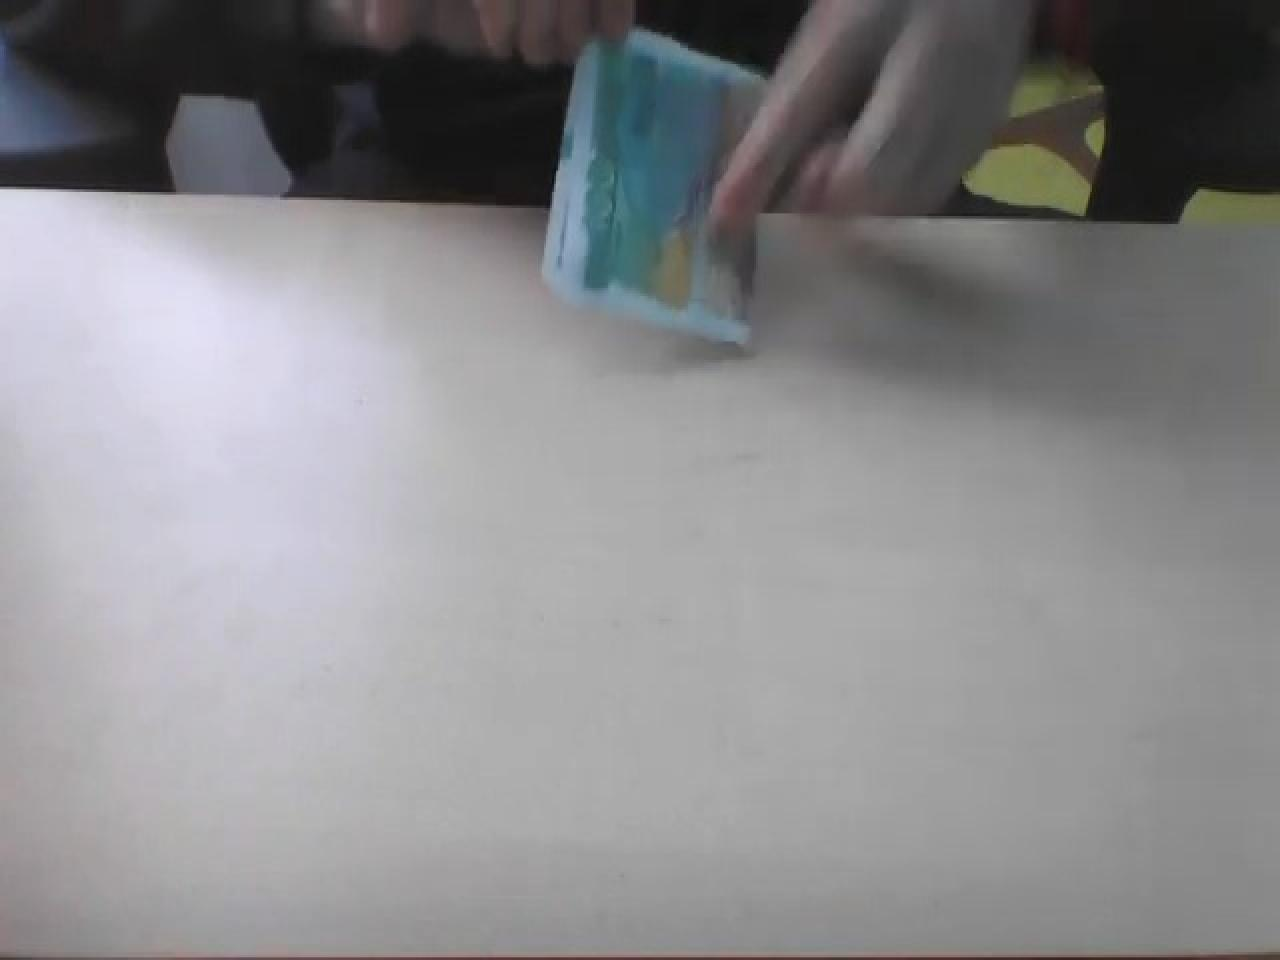100leva: (540, 32, 762, 352)
